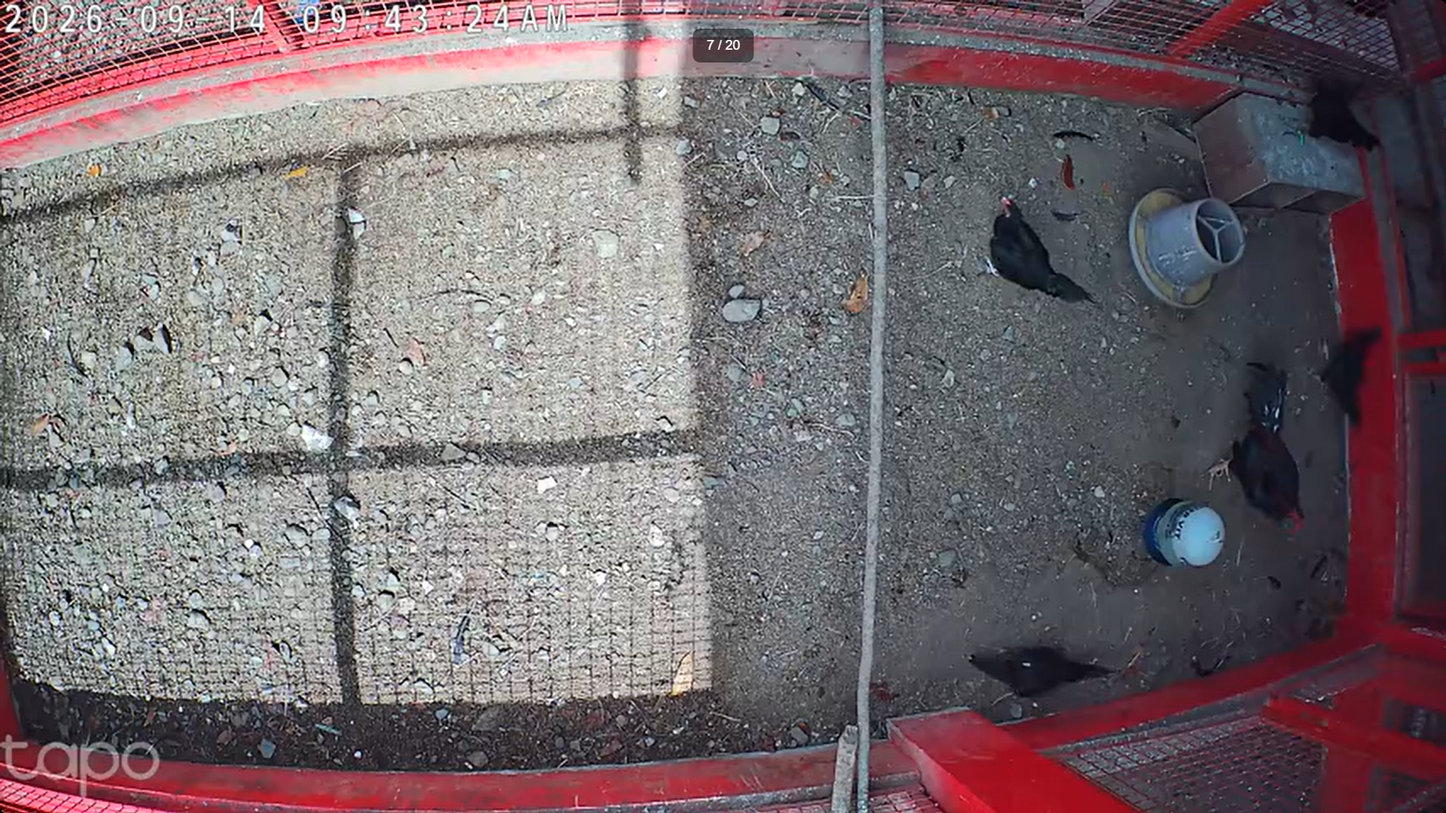Chicken: (981, 196, 1097, 309)
Rooster: (1198, 360, 1307, 539)
